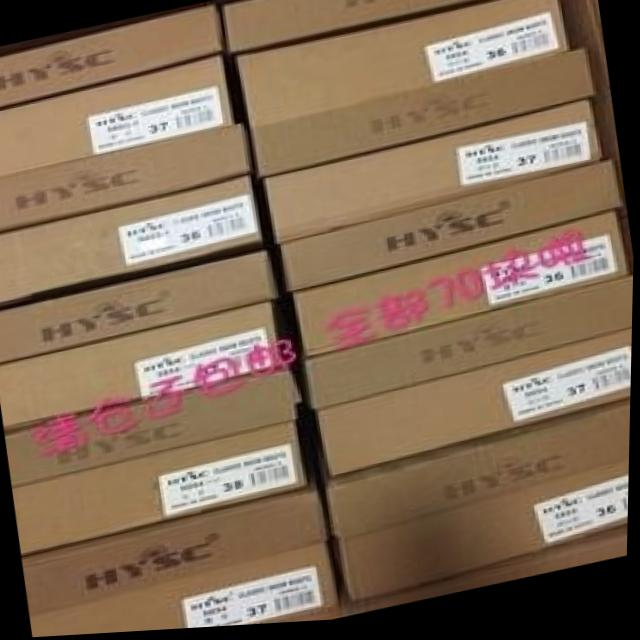box: (266, 105, 603, 248), (297, 219, 632, 361), (320, 335, 634, 484), (17, 416, 336, 557), (282, 167, 622, 299), (238, 0, 576, 131), (253, 52, 597, 180), (307, 283, 634, 414), (332, 405, 632, 546), (338, 468, 631, 607), (27, 488, 341, 616), (6, 363, 317, 489), (0, 300, 307, 426), (0, 176, 282, 307), (0, 249, 292, 361), (0, 53, 246, 173), (32, 546, 350, 638), (0, 125, 262, 229), (354, 535, 630, 618), (0, 6, 225, 104), (224, 0, 524, 61)
